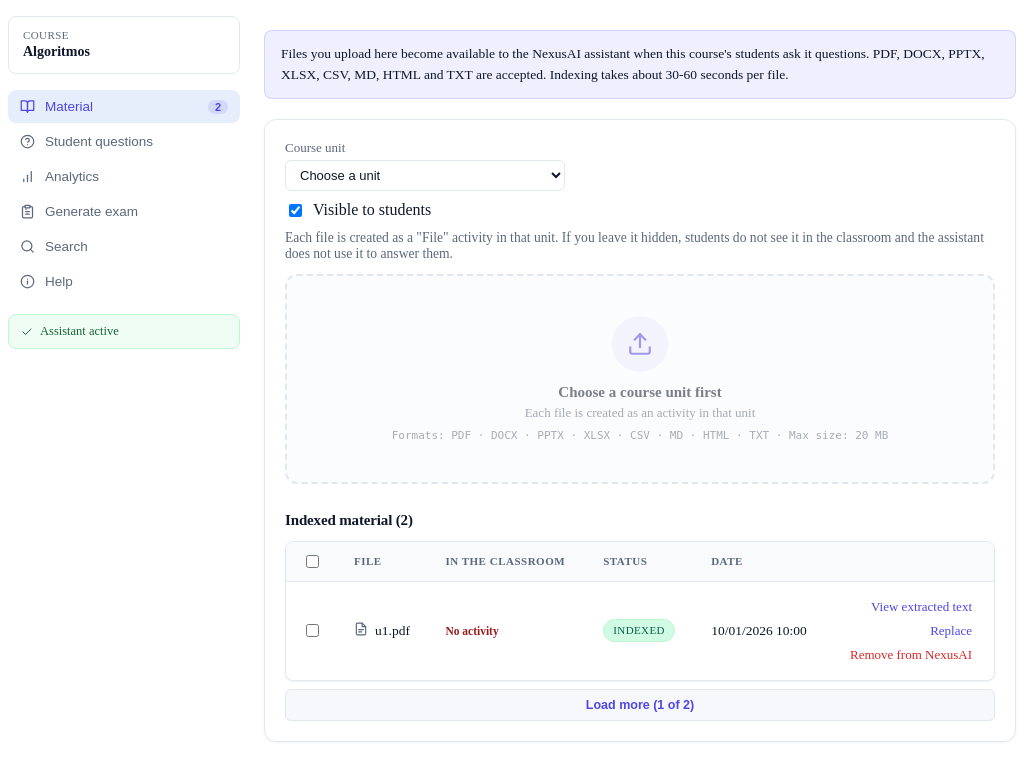
Test: DocumentsManager › carga más documentos cuando hay más que los mostrados
Click the button "Load more (1 of 2)" at (640, 705), box [285,689,995,721]
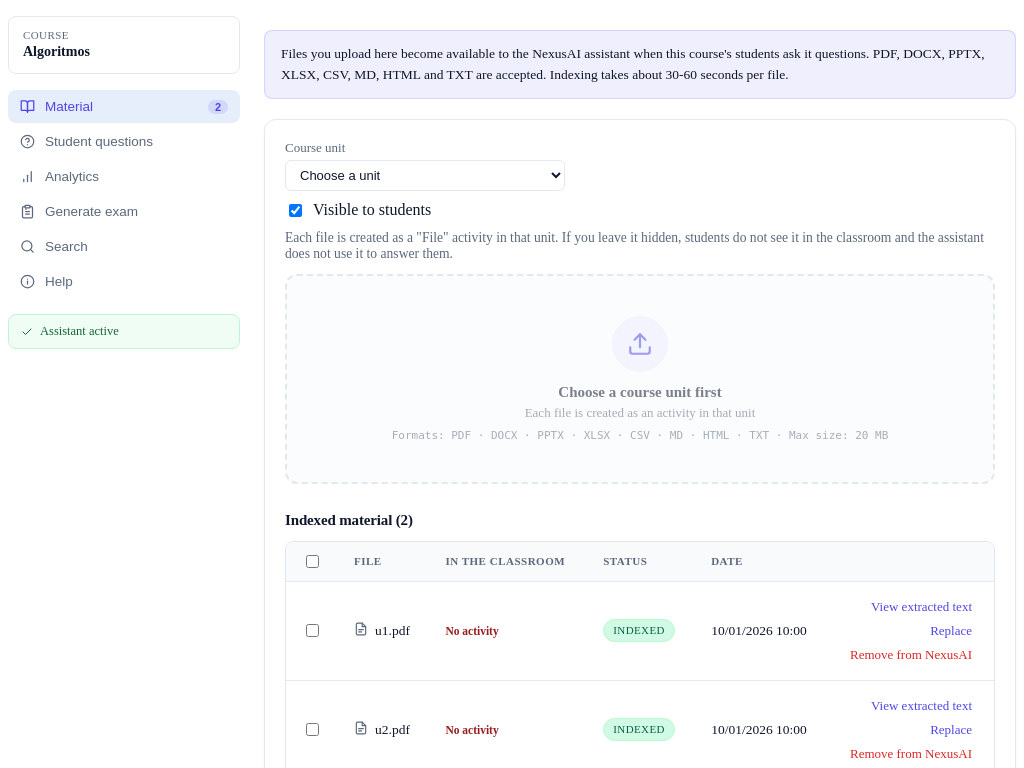
Expected: the text "u2.pdf" is shown, [354,721,413,739]
